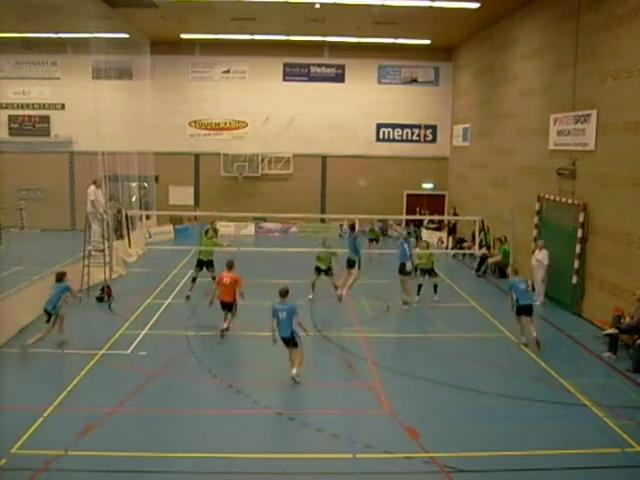Player: (23, 271, 76, 349), (271, 286, 307, 382), (186, 221, 223, 300), (210, 259, 243, 337), (509, 267, 539, 349), (337, 222, 361, 301), (308, 238, 337, 299), (414, 240, 437, 303), (367, 222, 381, 260)
Set: (384, 216, 417, 311)
